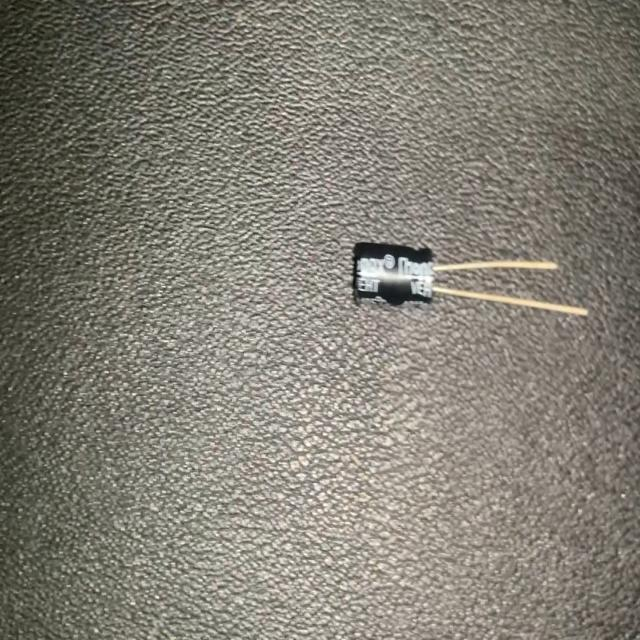capacitor: (350, 235, 589, 320)
